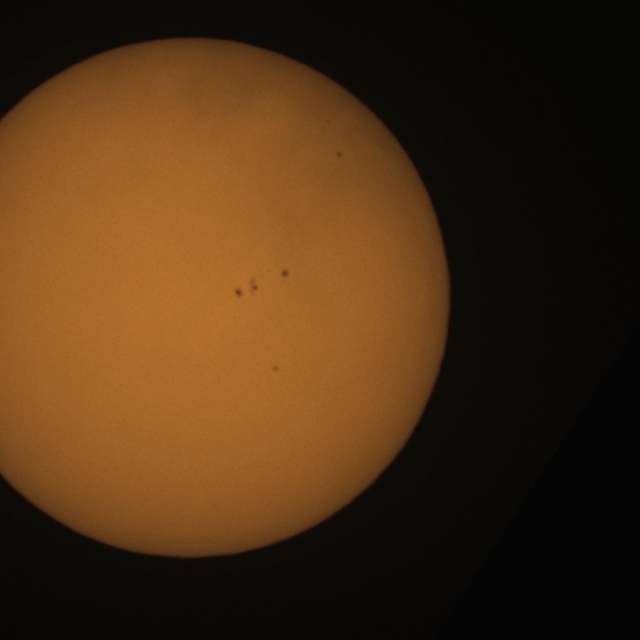sunspot: (234, 276, 260, 298), (247, 277, 260, 294), (234, 286, 244, 299), (280, 268, 290, 279), (271, 364, 280, 374), (336, 151, 344, 159)
